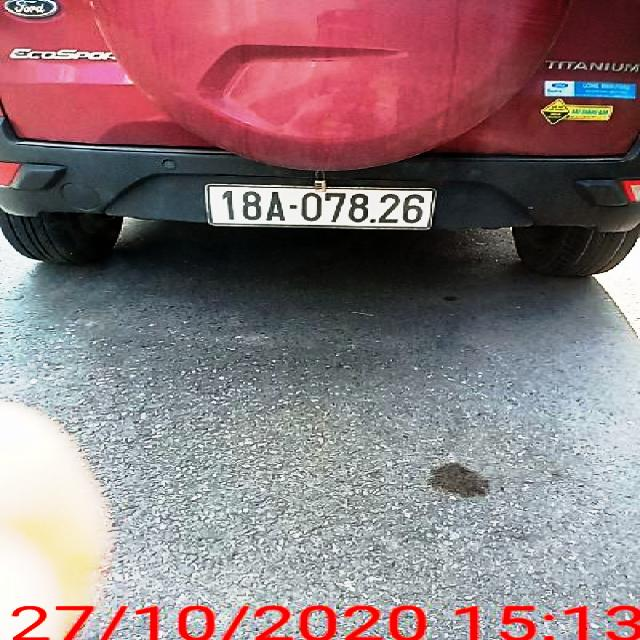license_plate: (207, 183, 437, 234)
